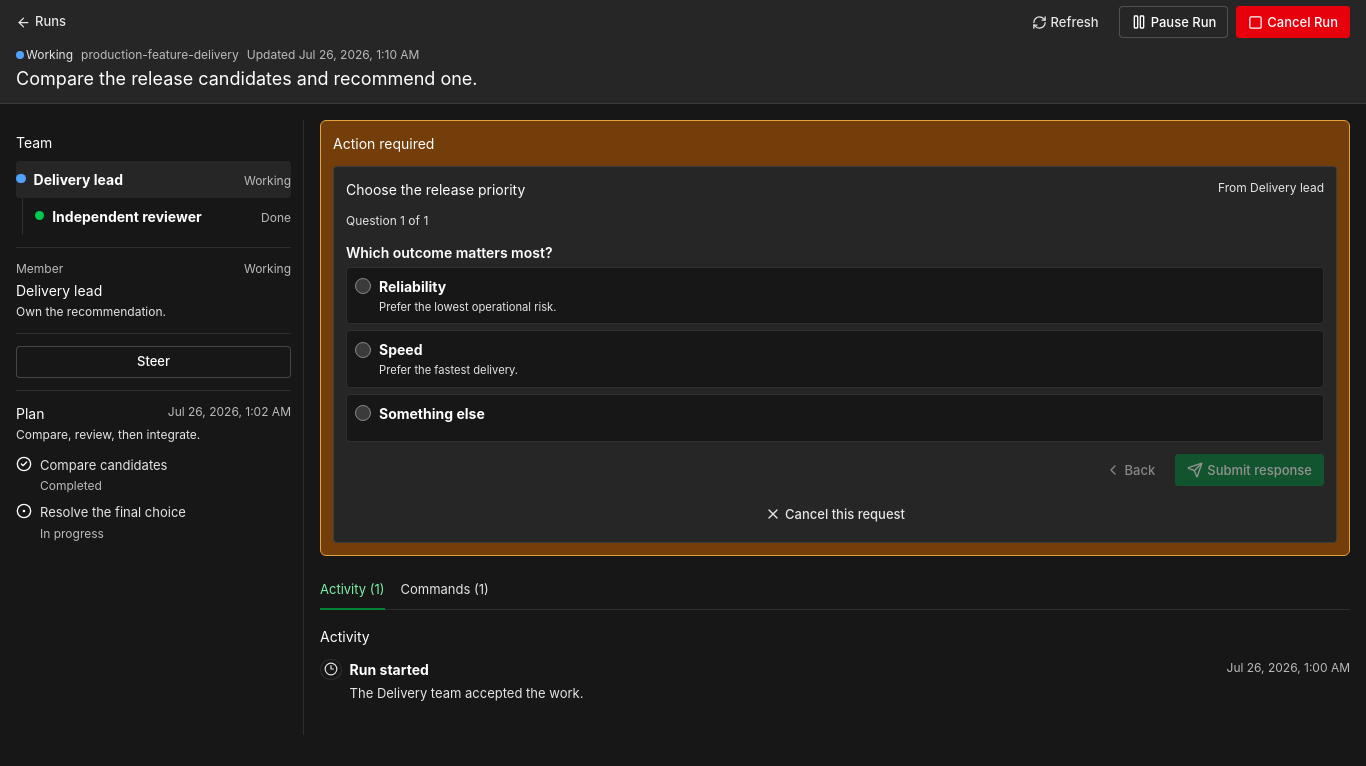
Scenario: temporary Run Studio › steers the selected working Member and shows the exact message in Activity
Click the button "Steer" at (154, 362), box [16,346,291,378]
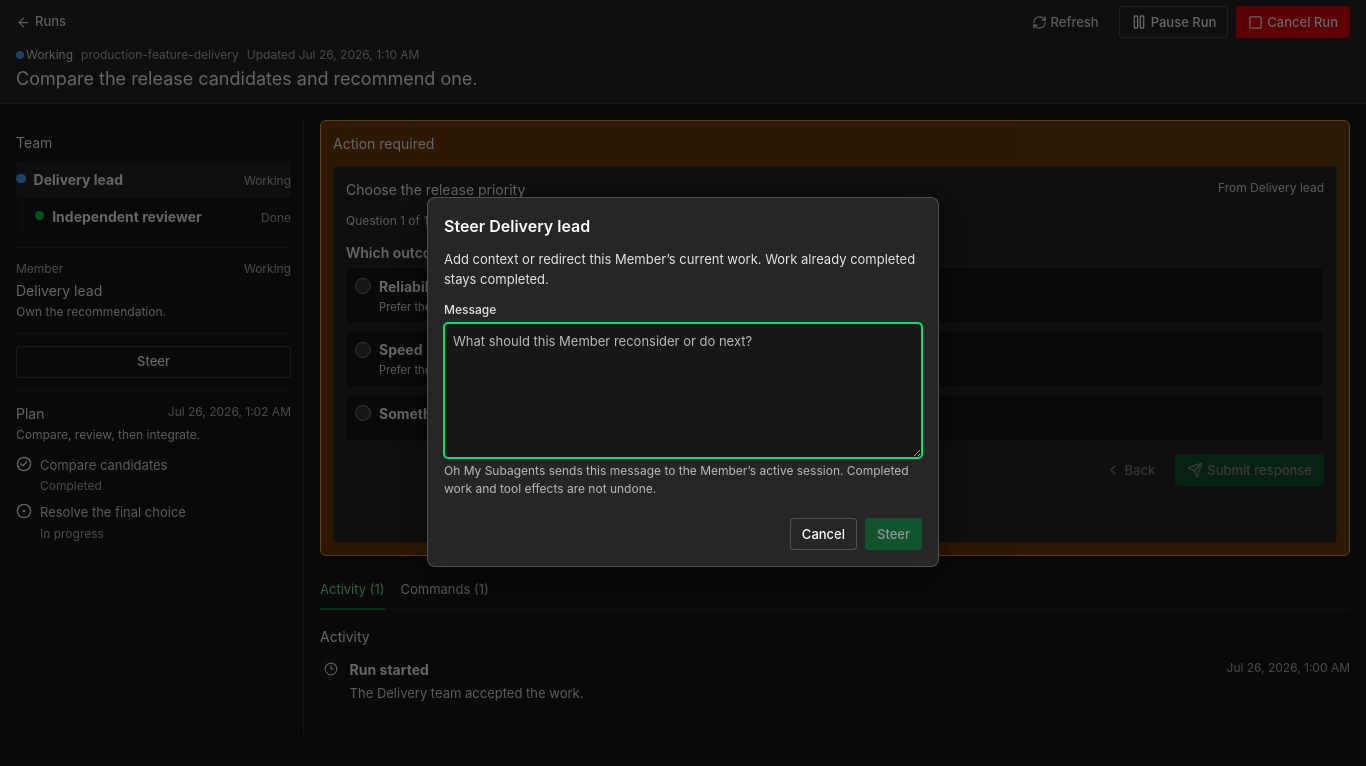
Type "Re-read AGENTS.md, then keep the repair narrowly scoped." into the text box labelled "Message" at (683, 390), box [444,323,922,458]
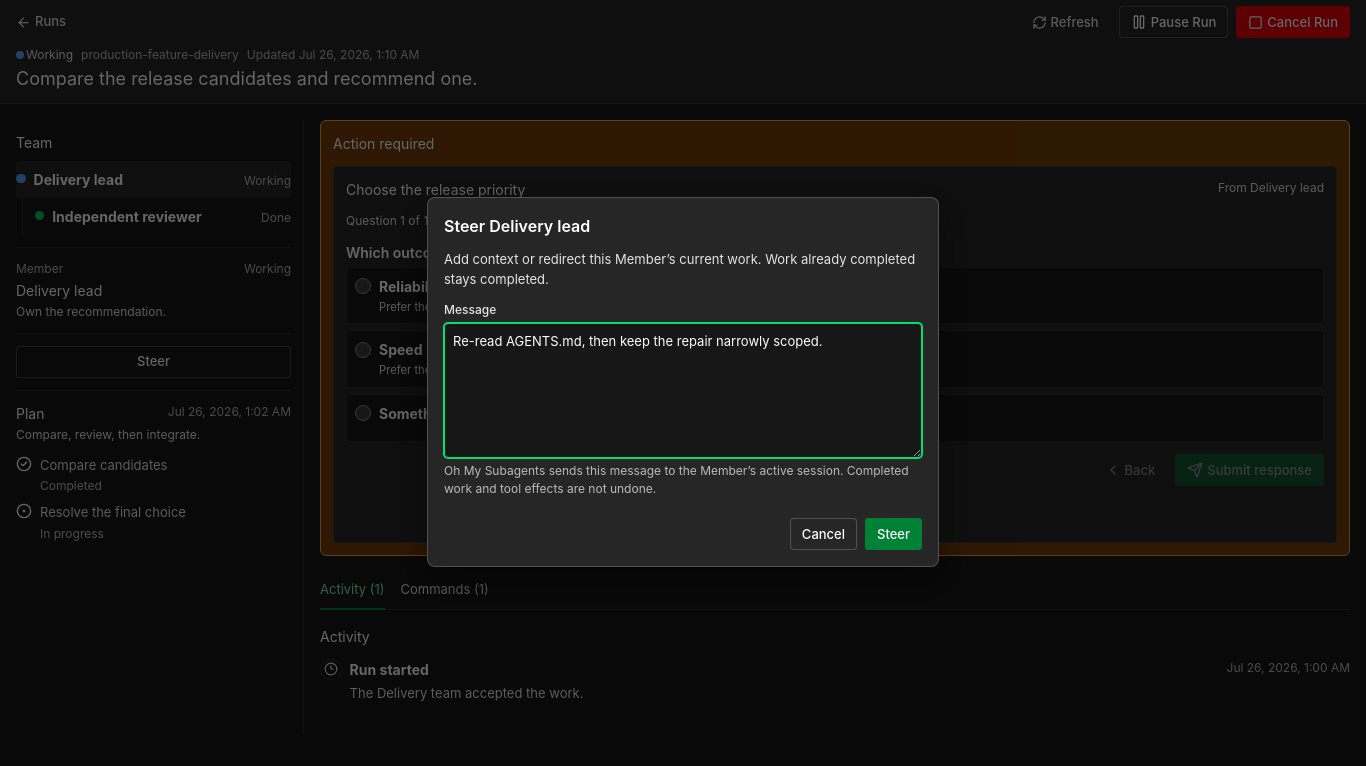
Click the button "Steer" at (894, 534), box [865,518,922,550]
(page scrolled)
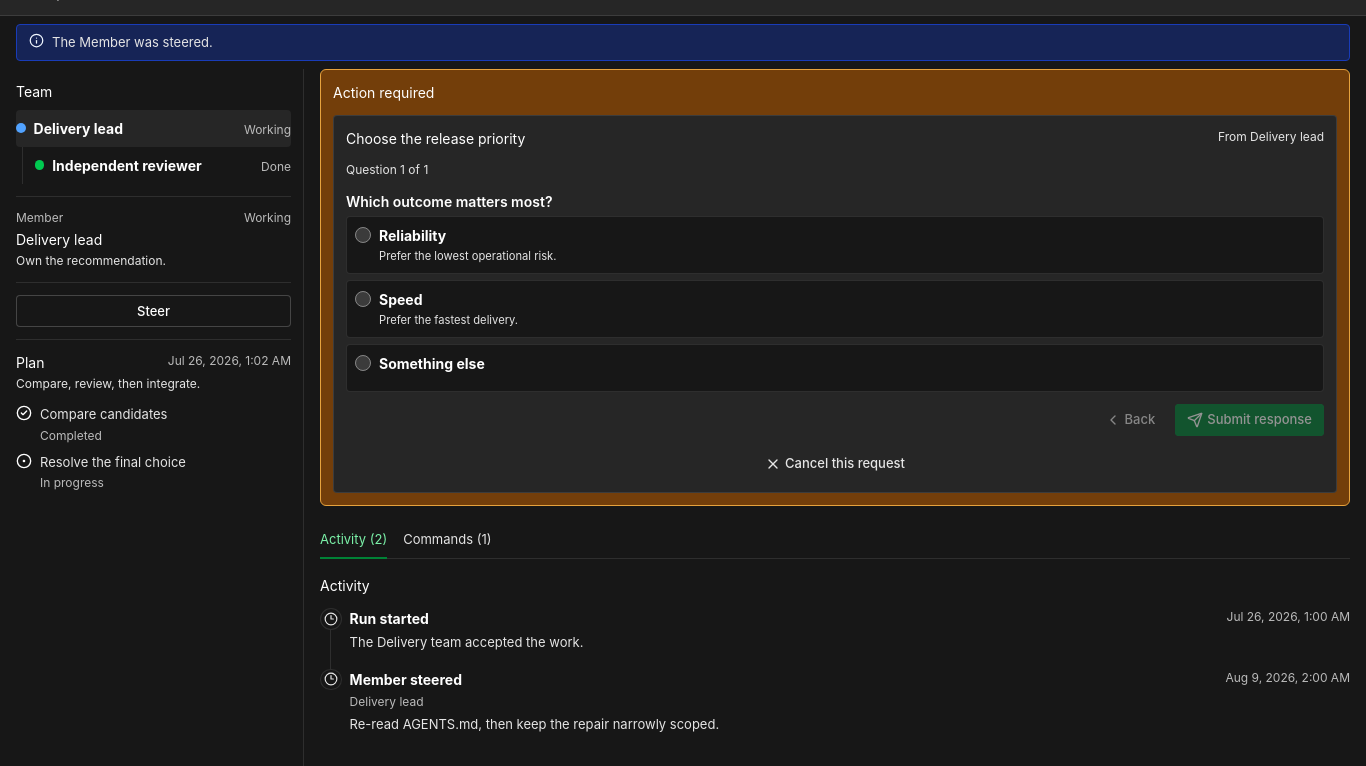
Now the dialog is gone
Now the text "Member steered" is shown, box [350,669,462,690]
Now the text "Re-read AGENTS.md, then keep the repair narrowly scoped." is shown, box [350,716,719,732]
